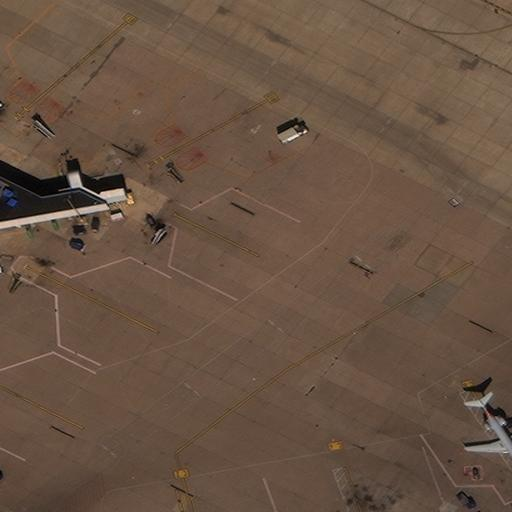Medium Civil Transport: (466, 398, 512, 473)
